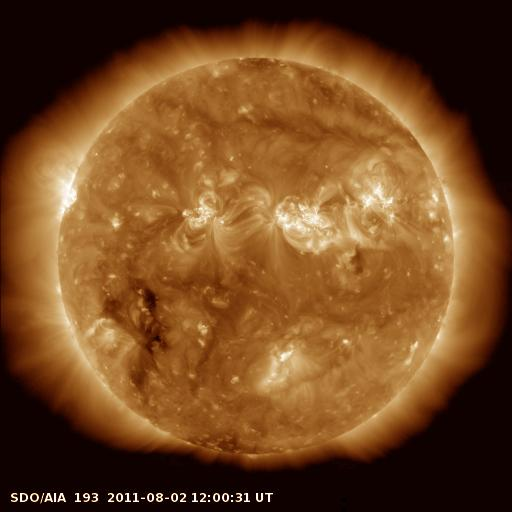coronal_hole: (133, 283, 161, 346)
